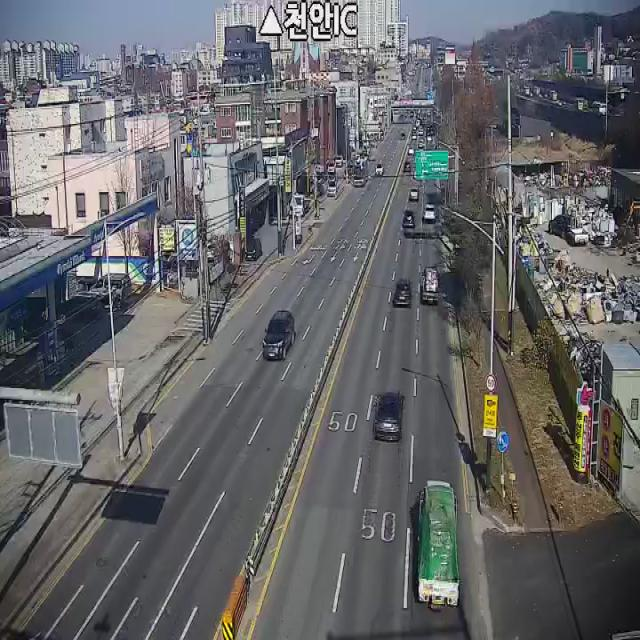Car: (262, 309, 296, 361), (375, 392, 403, 443), (90, 272, 131, 304), (394, 278, 412, 306), (245, 239, 262, 260), (402, 210, 415, 227), (424, 203, 436, 221), (328, 178, 337, 196), (409, 188, 419, 201), (375, 163, 384, 175), (335, 154, 343, 166), (327, 162, 336, 172), (403, 161, 411, 172)
Truck: (418, 479, 460, 608), (420, 267, 439, 305), (564, 218, 588, 246)
